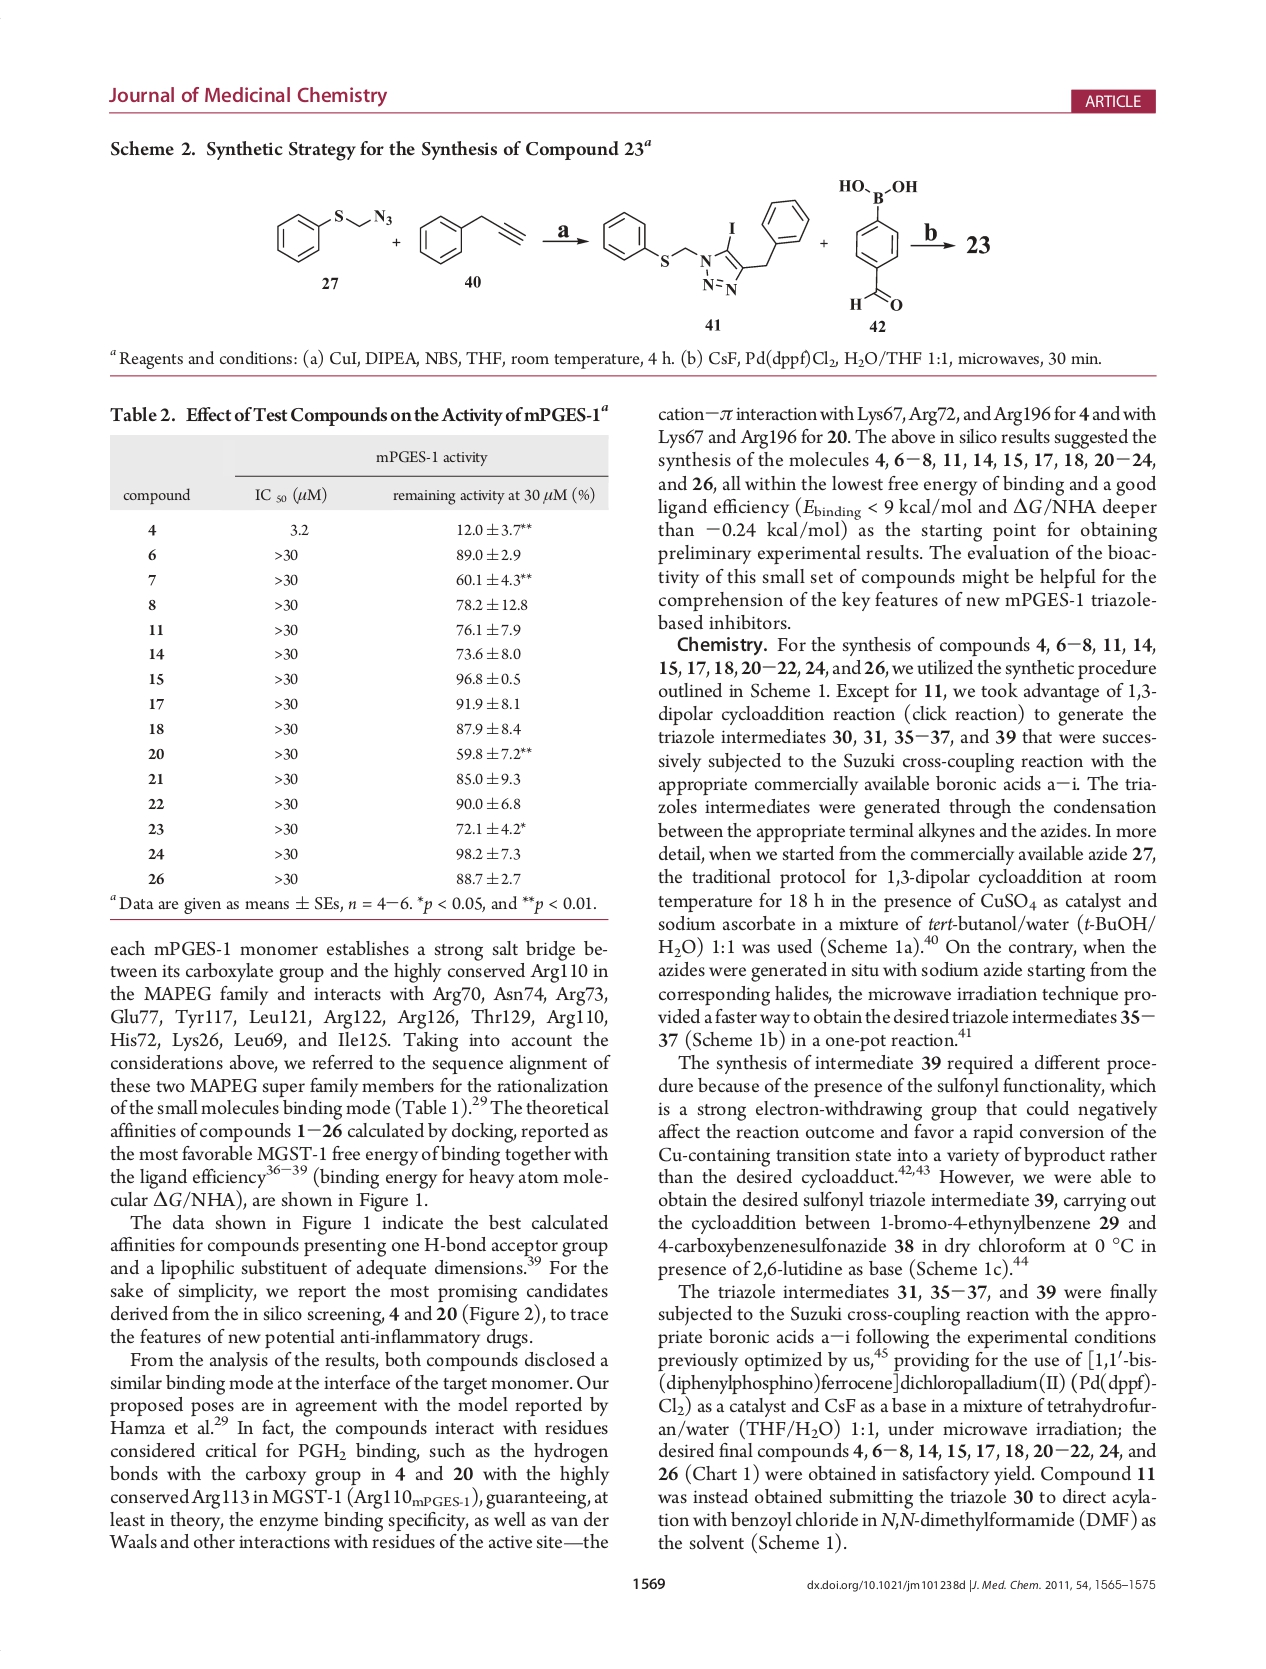exist_molecular: (601, 197, 813, 297), (836, 173, 922, 314), (271, 203, 394, 266), (415, 206, 529, 266)
